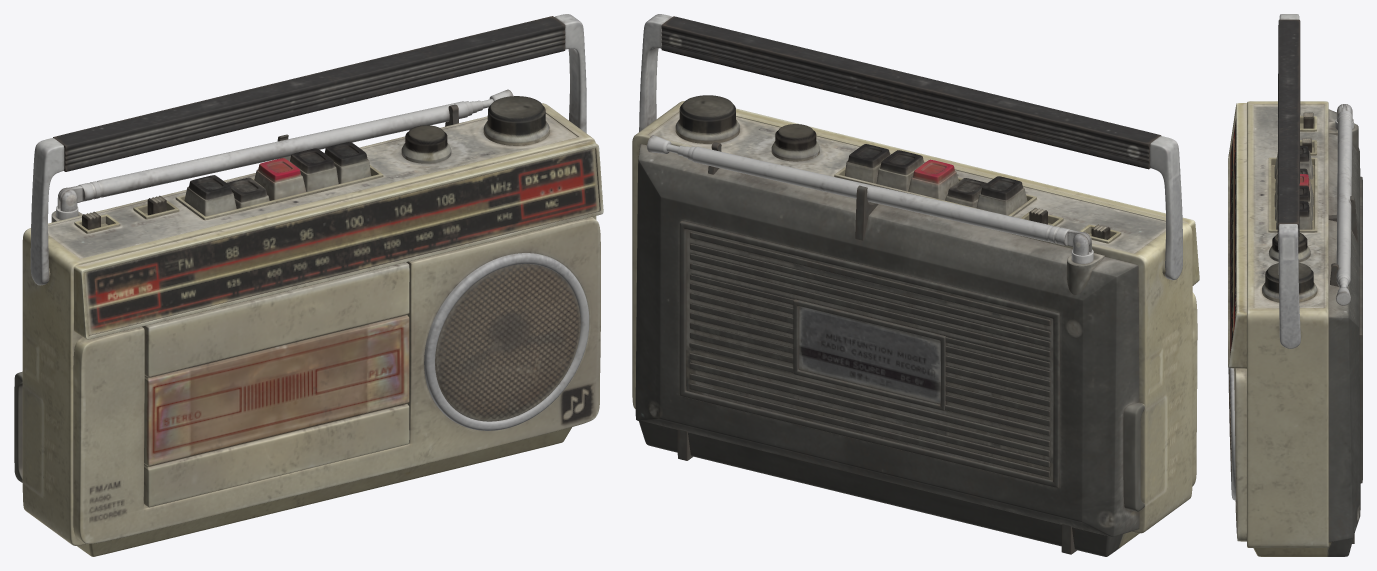
The model's file is vintage_radio.glb.
3 views of the same model, side by side, from view 1: azimuth 30°, elevation 25°; view 2: azimuth 150°, elevation 25°; view 3: azimuth 270°, elevation 25° (orthographic). The views are drawn at different scales.
Parts seen in each view (by area): view 1: MDCNRCTUP740_LOD0; view 2: MDCNRCTUP740_LOD0; view 3: MDCNRCTUP740_LOD0.
Part boxes in pixels (bbox=[...]): MDCNRCTUP740_LOD0: bbox=[14, 14, 603, 556]; MDCNRCTUP740_LOD0: bbox=[632, 14, 1199, 556]; MDCNRCTUP740_LOD0: bbox=[1228, 14, 1362, 556].
Bounding box in the file's own units: 0.2312 × 0.1654 × 0.0591.
Materials: 1 (1 with a texture image).
